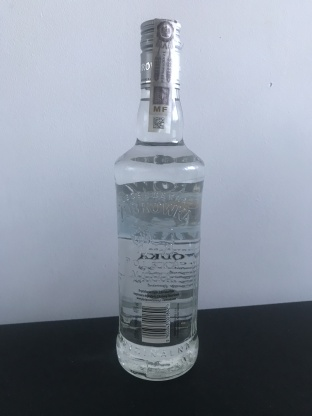nakretka: (137, 13, 183, 92)
